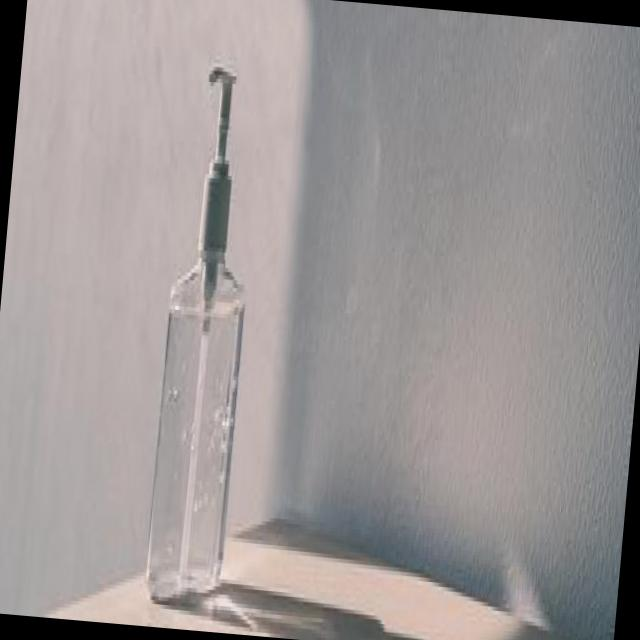sanitizer: (138, 52, 267, 598)
